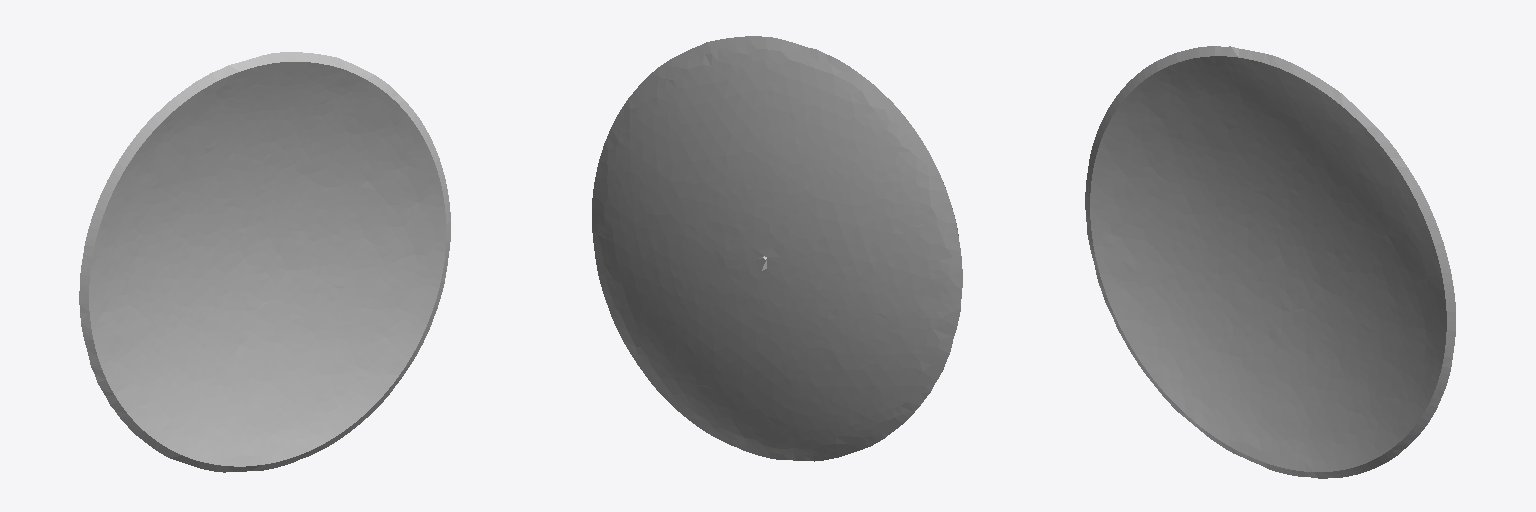
The model's file is Amulet_July_Disk_22.obj.
3 views of the same model, side by side, from view 1: azimuth 30°, elevation 25°; view 2: azimuth 150°, elevation 25°; view 3: azimuth 330°, elevation 25° (orthographic).
Bounding box in the file's own units: 26.74 × 28.85 × 3.3.